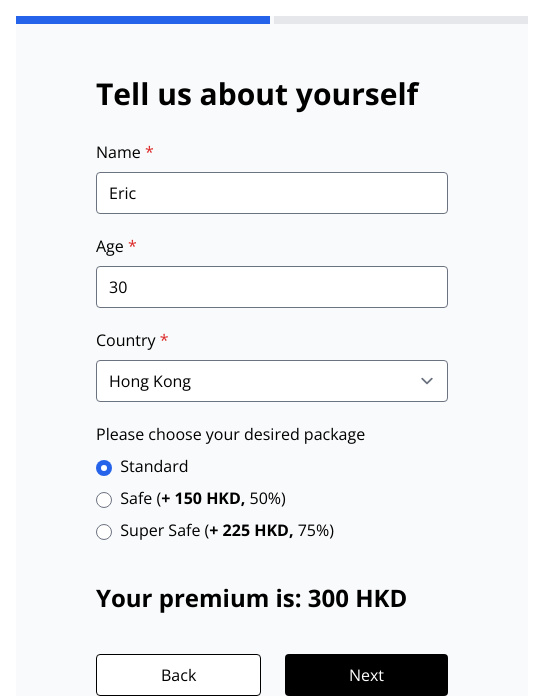
Test: Wizard navigation buttons test › step 1 back button
The image size is (545, 696).
What coordinates should you click on to do the following:
click the button "Back"
I would click on:
 (179, 675)
Its box is x1=96 y1=654 x2=261 y2=695.
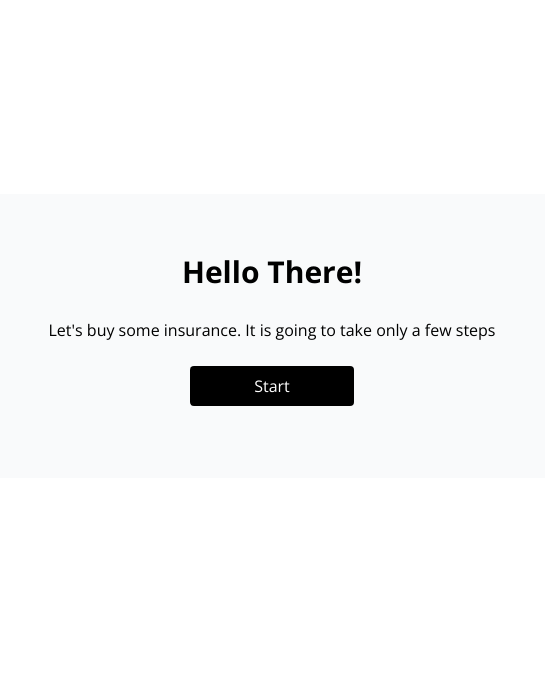
Check: the text "Hello There" is shown, box x1=182 y1=251 x2=362 y2=292
